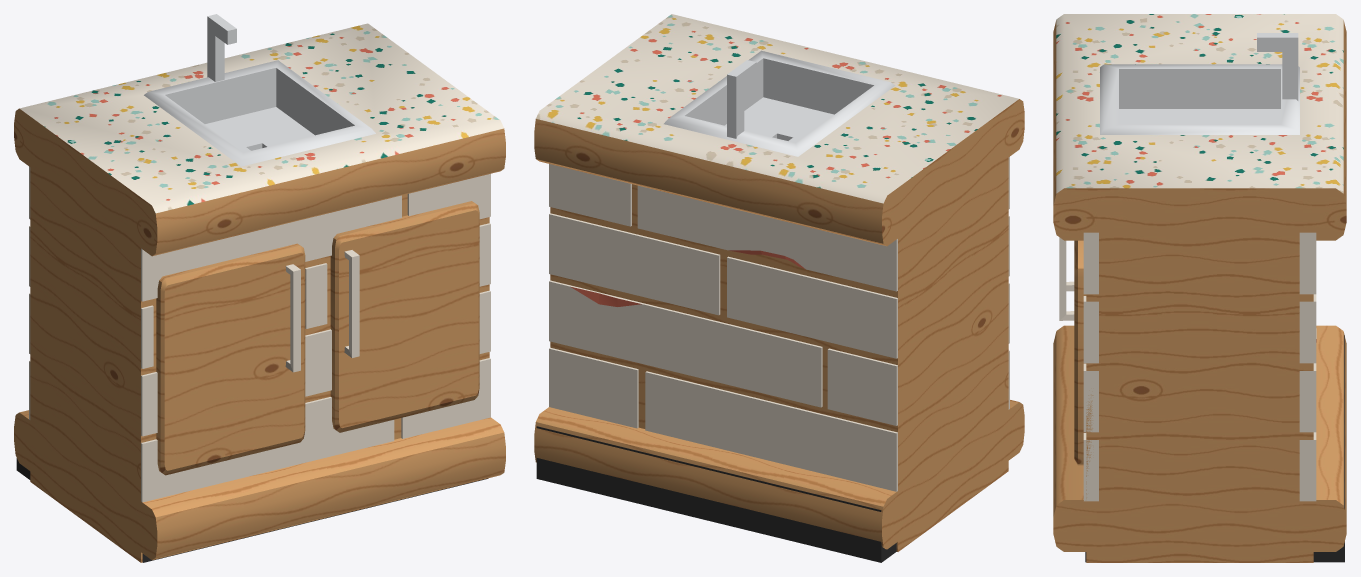
File: sink_b.glb
3 renders of one model, left to right at view 1: azimuth 30°, elevation 25°; view 2: azimuth 150°, elevation 25°; view 3: azimuth 270°, elevation 25°, orthographic. The views are drawn at different scales.
Parts seen in each view (by area): view 1: body; view 2: body; view 3: body.
Boxes of the visible parts, left/top/right/bottom form: body: left=14, top=14, right=505, bottom=562; body: left=534, top=14, right=1024, bottom=562; body: left=1053, top=14, right=1346, bottom=562.
Bounding box in the file's own units: 0.9 × 1.06 × 0.64.
Materials: 6 (2 with a texture image).
